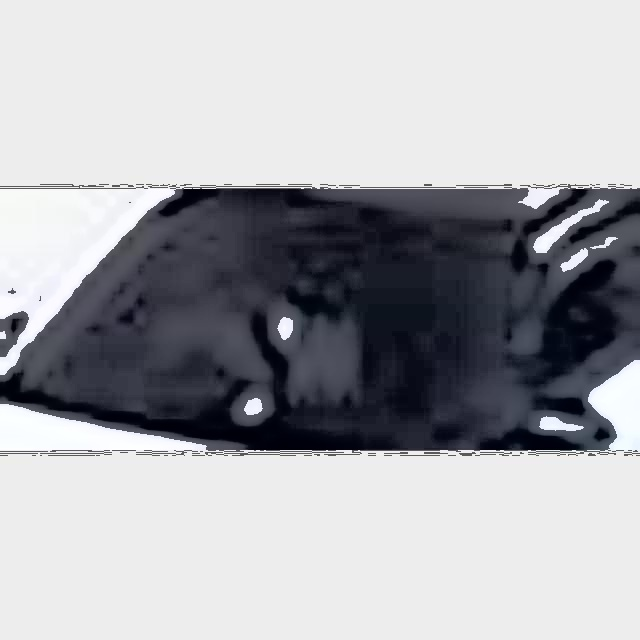pakai: (180, 270, 343, 396)
